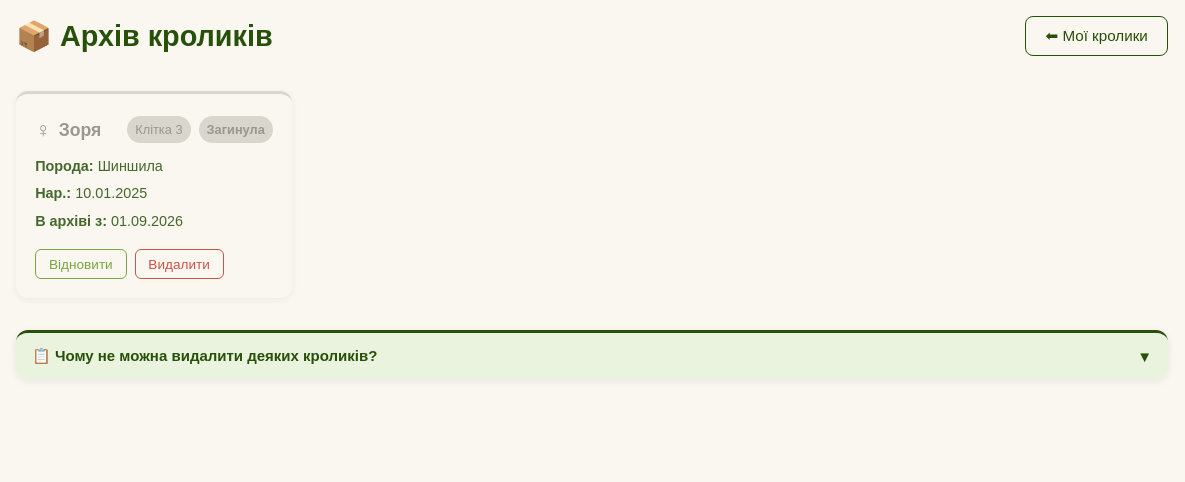
it: Archive: остаточне видалення › кролик із фото: запис видаляється, потім фото зі сховища
Click the button "Видалити": (179, 264) x1=134 y1=249 x2=224 y2=279
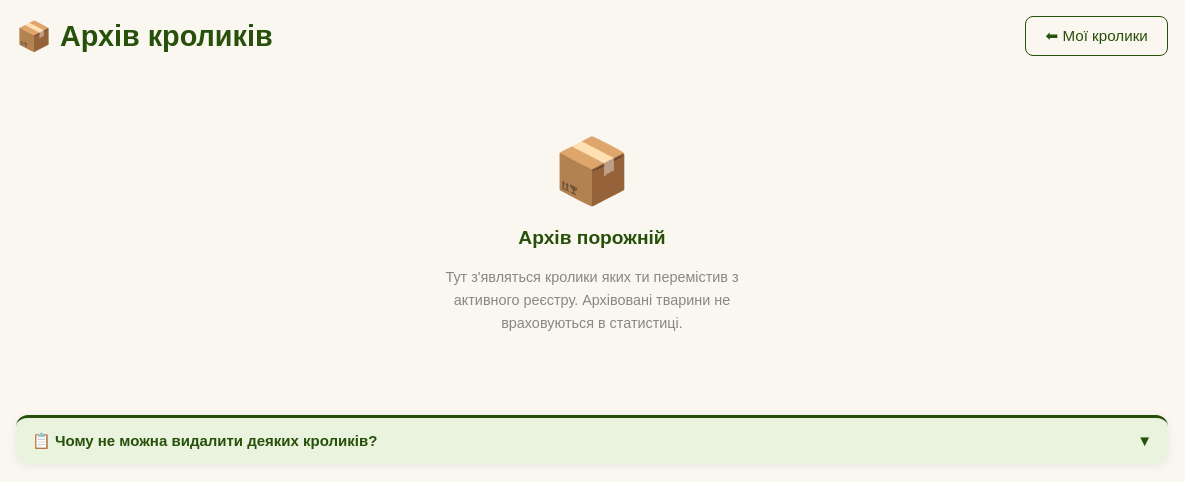
Expected: the heading "Зоря" is gone
